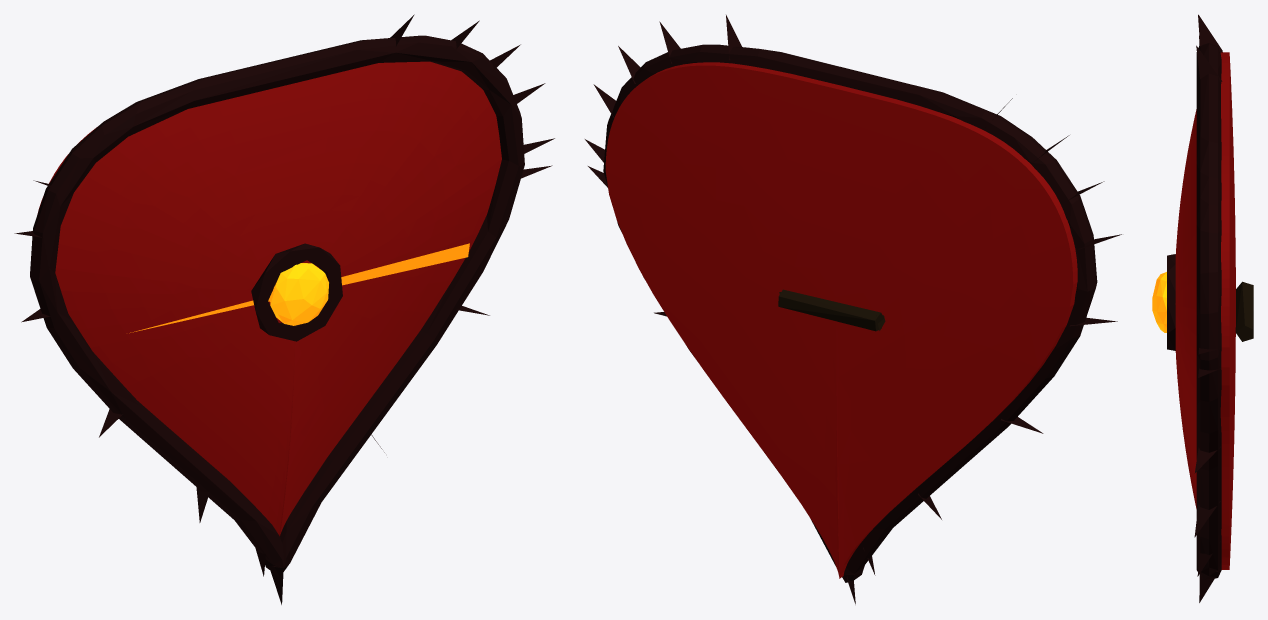
File: shield_4.glb
The picture shows the model from 3 angles, left to right: view 1: azimuth 30°, elevation 25°; view 2: azimuth 150°, elevation 25°; view 3: azimuth 270°, elevation 25°; orthographic projection. The views are drawn at different scales.
Visible parts, largest first — view 1: part_01, part_02, part_26, part_25, part_24; view 2: part_01, part_02, part_27; view 3: part_01, part_02, part_27, part_26, part_25, part_08, part_09, part_20, part_21, part_18, part_19.
Boxes of the visible parts, x1,y1,x2,y2 form: part_01: [37, 61, 501, 536]; part_02: [30, 35, 524, 576]; part_26: [251, 243, 342, 341]; part_25: [270, 263, 328, 325]; part_24: [129, 243, 469, 333]; part_01: [605, 62, 1077, 578]; part_02: [603, 44, 1097, 582]; part_27: [778, 289, 884, 331]; part_01: [1175, 52, 1235, 569]; part_02: [1196, 43, 1221, 580]; part_27: [1235, 281, 1253, 341]; part_26: [1167, 254, 1175, 350]; part_25: [1152, 272, 1166, 332]; part_08: [1196, 45, 1222, 82]; part_09: [1198, 14, 1222, 52]; part_20: [1194, 501, 1220, 537]; part_21: [1194, 446, 1220, 473]; part_18: [1199, 568, 1220, 602]; part_19: [1197, 541, 1220, 576].
Size of the model in its own units: 1.12 by 1.12 by 0.1933.
